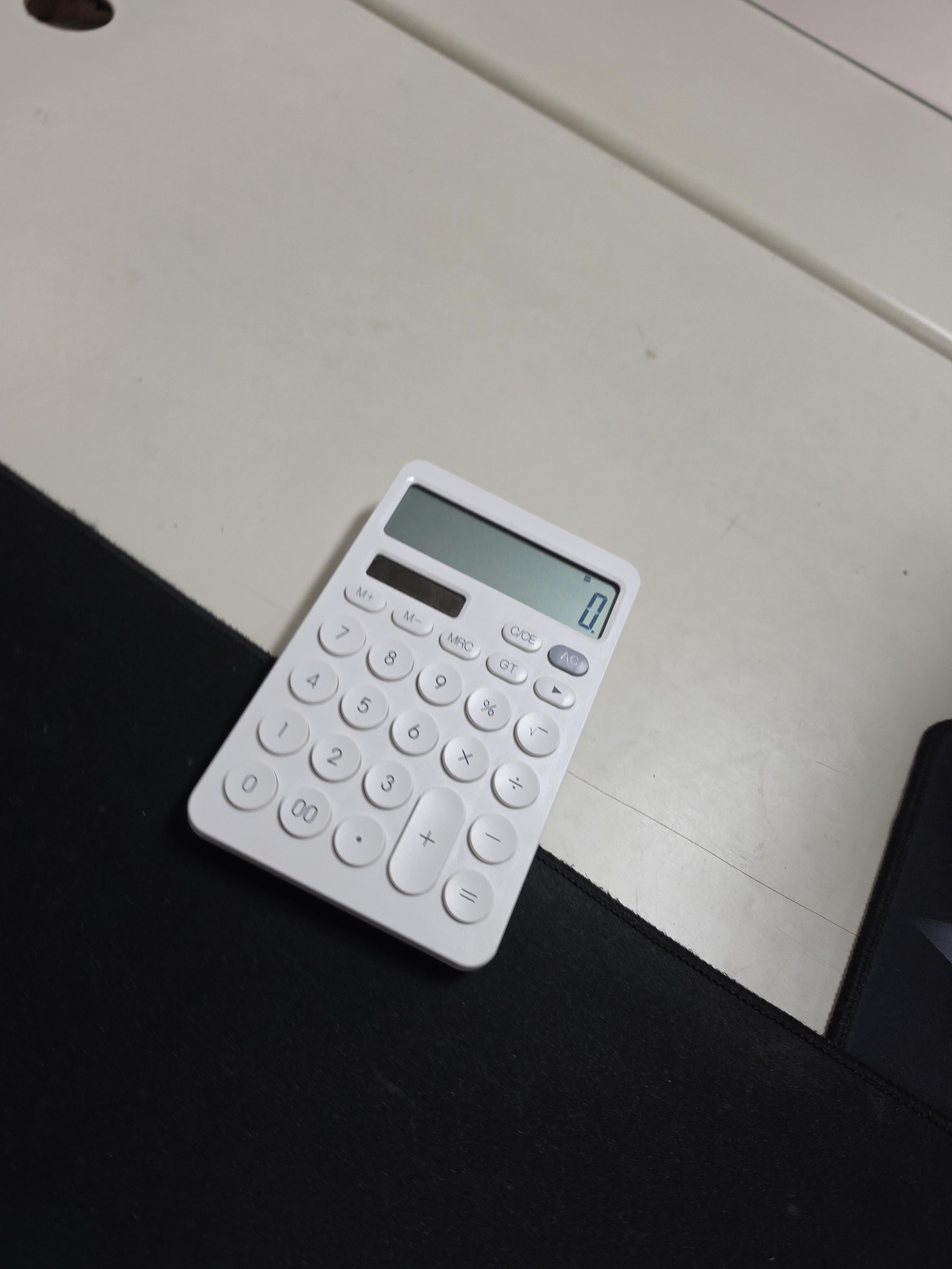calculator: (185, 457, 643, 970)
